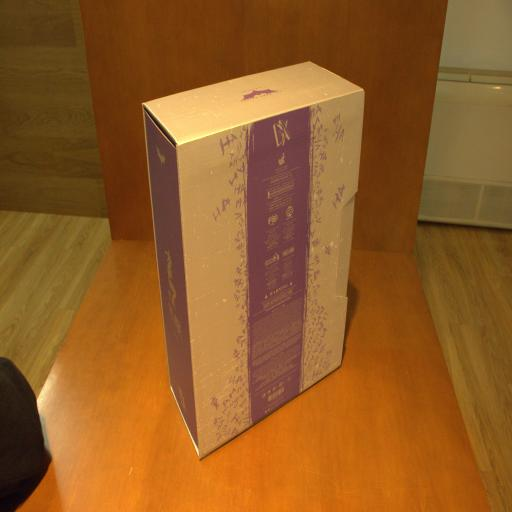Joker: (144, 60, 366, 455)
